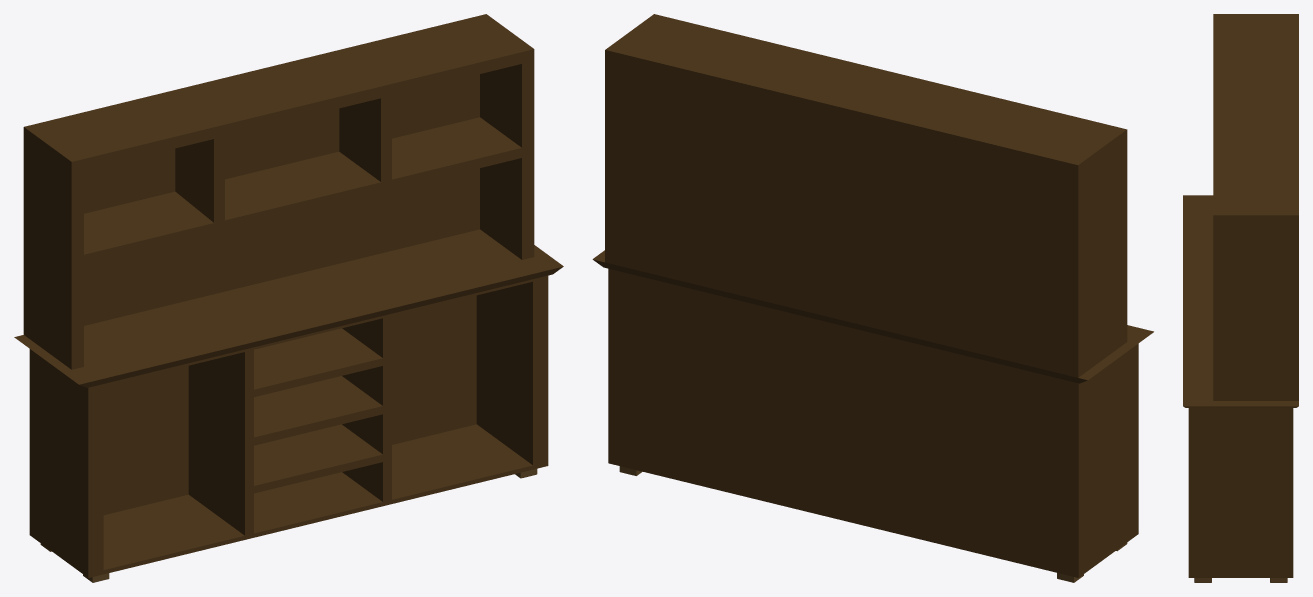
File: Armario Cozinha.fbx
3 renders of one model, left to right at view 1: azimuth 30°, elevation 25°; view 2: azimuth 150°, elevation 25°; view 3: azimuth 270°, elevation 25°, orthographic. The views are drawn at different scales.
Visible parts, largest first — view 1: Armario.001; view 2: Armario.001; view 3: Armario.001, Pes.002.
Part boxes in pixels (x1,y1,x2,y2): Armario.001: [14, 14, 563, 577]; Armario.001: [592, 14, 1153, 577]; Armario.001: [1183, 14, 1298, 577]; Pes.002: [1194, 578, 1287, 582].
Bounding box in the file's own units: 286 × 235 × 66.46.
